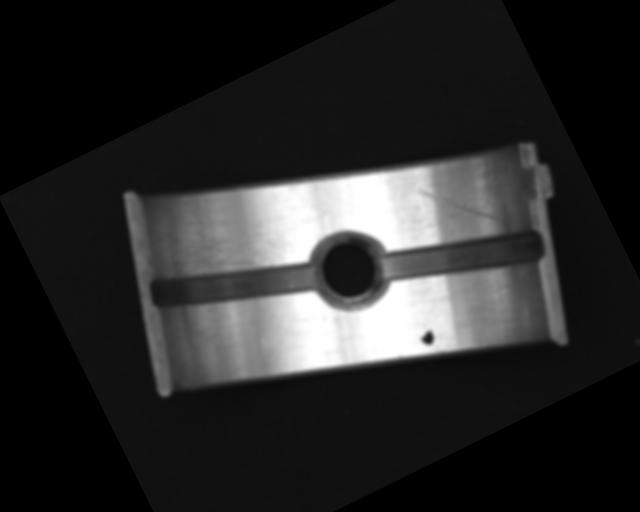blot: (416, 324, 437, 348)
gap: (146, 213, 323, 356), (375, 186, 550, 323)
hole: (300, 219, 400, 322)
nick: (417, 161, 501, 247)
scratch: (146, 180, 301, 312)
